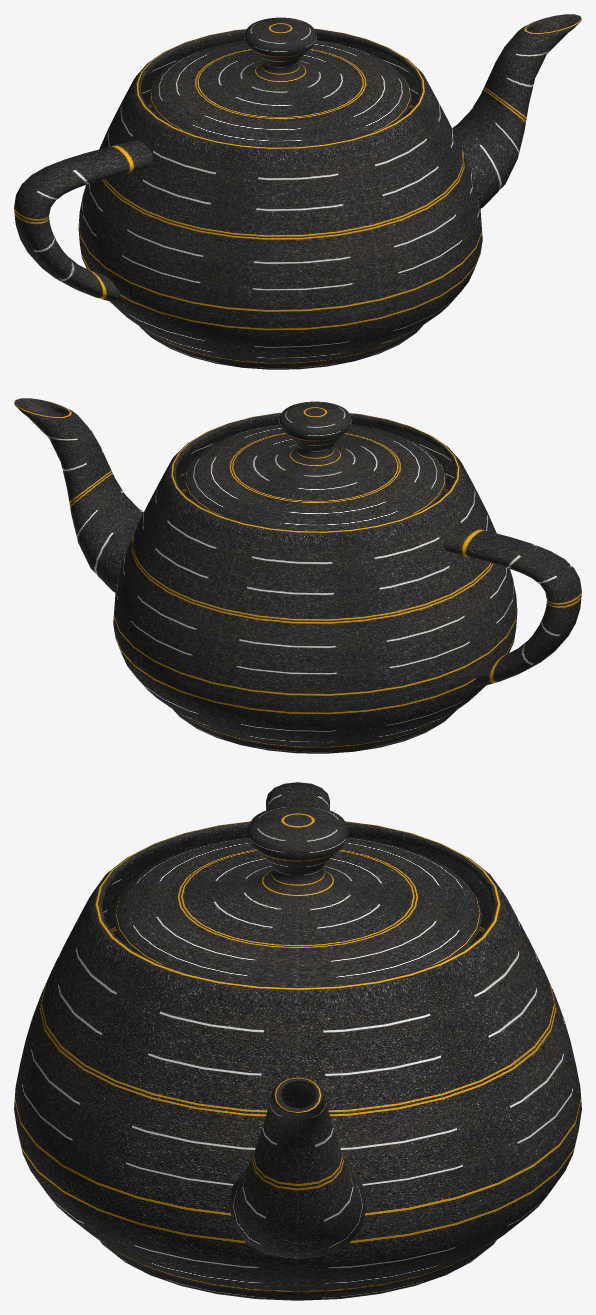
The picture shows the model from 3 angles, top to bottom: view 1: azimuth 30°, elevation 25°; view 2: azimuth 150°, elevation 25°; view 3: azimuth 270°, elevation 25°; orthographic projection. The views are drawn at different scales.
Visible parts, largest first — view 1: Teapot001; view 2: Teapot001; view 3: Teapot001.
Part boxes in pixels (box(x1,y1,x2,y2)): Teapot001: box(14, 14, 581, 369); Teapot001: box(14, 398, 581, 753); Teapot001: box(14, 782, 581, 1300).
Size of the model in its own units: 386 by 189 by 240.
1 material, 1 textured.
